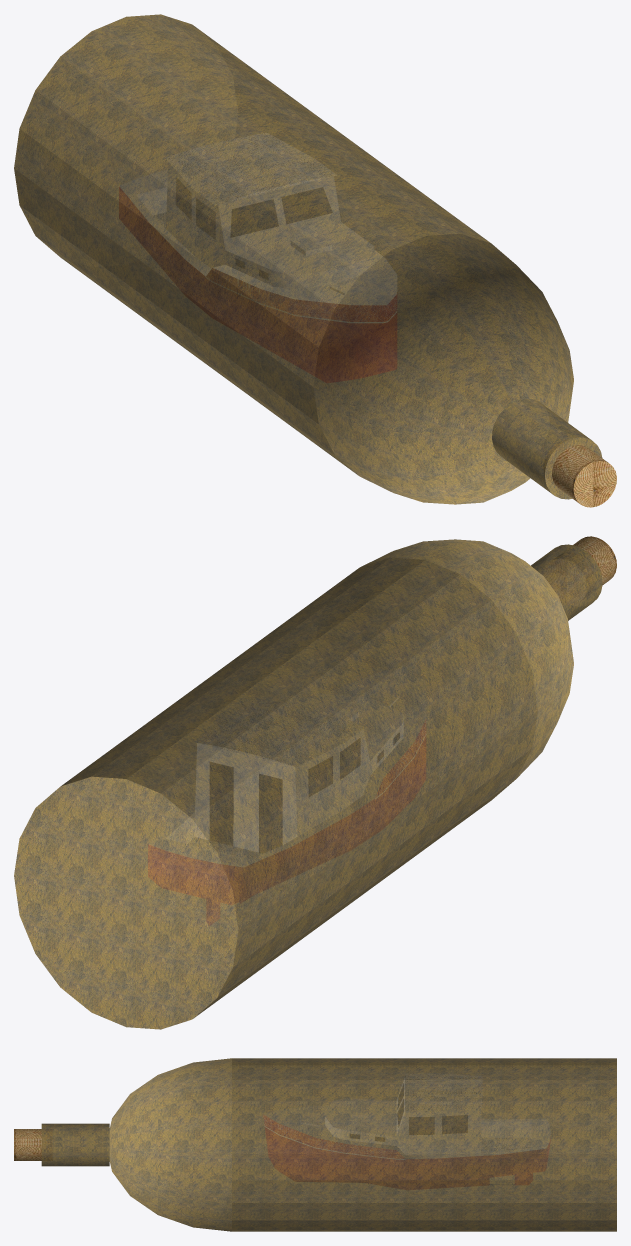
File: model_scale.obj
The picture shows the model from 3 angles, top to bottom: view 1: azimuth 30°, elevation 25°; view 2: azimuth 150°, elevation 25°; view 3: azimuth 270°, elevation 25°; orthographic projection. The views are drawn at different scales.
Parts seen in each view (by area): view 1: mesh1_mesh1-geometry, mesh5_mesh5-geometry, mesh4_mesh4-geometry, mesh2_mesh2-geometry, mesh6_mesh6-geometry; view 2: mesh1_mesh1-geometry, mesh5_mesh5-geometry, mesh4_mesh4-geometry, mesh2_mesh2-geometry; view 3: mesh1_mesh1-geometry, mesh4_mesh4-geometry, mesh5_mesh5-geometry, mesh2_mesh2-geometry, mesh6_mesh6-geometry.
Part boxes in pixels (bbox=[...]): mesh1_mesh1-geometry: bbox=[14, 14, 573, 504]; mesh5_mesh5-geometry: bbox=[119, 143, 386, 382]; mesh4_mesh4-geometry: bbox=[164, 133, 396, 373]; mesh2_mesh2-geometry: bbox=[492, 398, 616, 507]; mesh6_mesh6-geometry: bbox=[291, 234, 370, 294]; mesh1_mesh1-geometry: bbox=[14, 539, 573, 1029]; mesh5_mesh5-geometry: bbox=[192, 666, 425, 904]; mesh4_mesh4-geometry: bbox=[148, 665, 414, 895]; mesh2_mesh2-geometry: bbox=[500, 536, 616, 637]; mesh1_mesh1-geometry: bbox=[106, 1058, 616, 1231]; mesh4_mesh4-geometry: bbox=[264, 1091, 550, 1189]; mesh5_mesh5-geometry: bbox=[266, 1074, 550, 1152]; mesh2_mesh2-geometry: bbox=[14, 1123, 109, 1166]; mesh6_mesh6-geometry: bbox=[301, 1107, 370, 1125].
Size of the model in its own units: 0.0436 by 0.0461 by 0.158.
